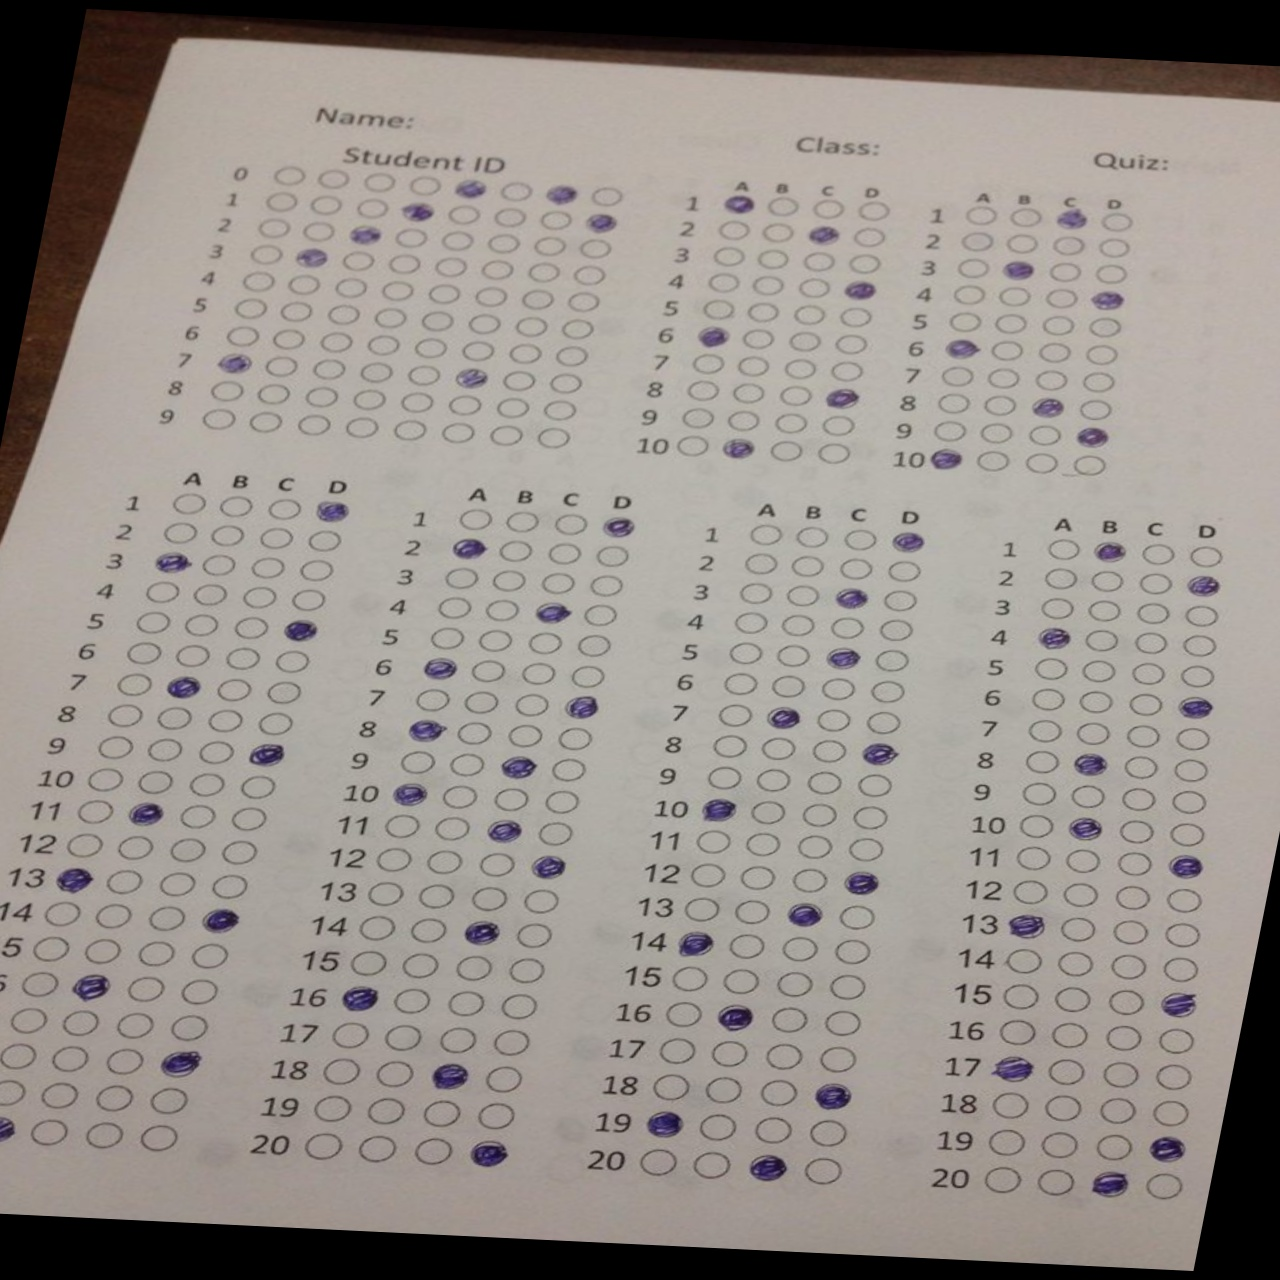not-c: (369, 1058, 423, 1091), (1037, 1090, 1089, 1124), (83, 1118, 131, 1155), (349, 1133, 401, 1166), (822, 972, 871, 1006), (713, 966, 765, 998), (1042, 1020, 1095, 1051), (799, 1155, 850, 1187), (493, 992, 547, 1022), (763, 1007, 815, 1039), (488, 1027, 537, 1060), (980, 1126, 1033, 1157), (479, 1063, 530, 1095), (990, 1017, 1041, 1049), (1030, 1166, 1081, 1198), (416, 1098, 463, 1132), (821, 1010, 872, 1041), (223, 803, 272, 835), (216, 837, 265, 869), (139, 904, 189, 935), (785, 864, 835, 896), (39, 1080, 84, 1114), (474, 1101, 520, 1133), (1145, 1061, 1196, 1091), (1141, 1170, 1189, 1201), (297, 1131, 348, 1160), (982, 1091, 1034, 1121), (163, 835, 212, 865), (165, 1010, 211, 1043), (408, 1137, 457, 1167), (1041, 1058, 1090, 1089), (1150, 1097, 1199, 1128), (702, 1075, 749, 1107), (1005, 878, 1057, 906), (1151, 1024, 1198, 1056), (506, 692, 557, 721), (661, 966, 712, 995), (649, 1035, 700, 1064), (659, 1000, 707, 1030), (138, 1122, 183, 1155), (144, 1085, 196, 1114), (645, 1071, 696, 1099), (434, 1023, 479, 1055), (706, 1039, 751, 1070), (1049, 948, 1095, 980), (979, 1164, 1024, 1196), (183, 770, 232, 799), (1157, 954, 1206, 983), (90, 1083, 137, 1114), (26, 1117, 73, 1148), (389, 985, 436, 1015), (124, 610, 175, 638), (115, 1010, 159, 1042), (796, 801, 840, 832), (45, 1046, 93, 1075), (437, 782, 485, 811), (1169, 723, 1217, 753), (1107, 953, 1155, 982), (996, 982, 1044, 1012), (1094, 1097, 1142, 1126), (879, 557, 925, 587), (845, 803, 891, 833), (1187, 542, 1233, 572), (1017, 811, 1063, 842), (1035, 1130, 1081, 1160), (516, 888, 565, 917), (343, 949, 390, 979), (1114, 753, 1160, 782), (1107, 849, 1157, 876), (741, 828, 785, 858), (830, 938, 874, 968), (692, 1149, 736, 1179), (285, 588, 333, 617), (463, 656, 511, 685), (324, 1020, 372, 1048), (316, 1057, 365, 1085), (1124, 658, 1172, 686), (207, 870, 248, 903), (518, 658, 564, 687), (443, 990, 489, 1020), (1175, 632, 1220, 661), (1105, 988, 1148, 1020), (509, 922, 558, 949), (89, 903, 132, 933), (7, 1005, 50, 1035), (1092, 1132, 1136, 1163), (236, 772, 282, 801), (26, 937, 73, 965), (413, 883, 459, 911), (791, 835, 838, 863), (634, 1148, 681, 1176), (152, 869, 197, 898), (59, 1009, 103, 1039), (692, 826, 736, 856), (738, 864, 783, 893), (1058, 847, 1103, 877), (175, 978, 225, 1003), (554, 723, 595, 755), (696, 764, 749, 789), (1099, 1060, 1141, 1091), (683, 349, 731, 376), (193, 738, 241, 765), (14, 971, 62, 998), (842, 837, 890, 864), (695, 1114, 743, 1141), (1073, 628, 1121, 655), (1015, 779, 1063, 806), (114, 832, 159, 860), (43, 897, 86, 927), (188, 940, 230, 971), (542, 788, 584, 818), (406, 915, 451, 944), (727, 608, 772, 636), (716, 672, 762, 700), (1075, 658, 1121, 686), (1065, 779, 1111, 808), (1163, 886, 1208, 914), (1159, 920, 1205, 948), (437, 417, 481, 447), (365, 1095, 408, 1124), (1133, 568, 1177, 598), (406, 686, 455, 712), (1167, 821, 1214, 847), (227, 615, 272, 644), (565, 663, 610, 692), (476, 852, 520, 880), (366, 878, 410, 906), (400, 951, 444, 979), (503, 956, 547, 985), (835, 556, 879, 584), (813, 704, 858, 733), (862, 708, 906, 736), (687, 860, 731, 888), (817, 1046, 862, 1074), (806, 1121, 851, 1149), (1041, 535, 1085, 563), (1110, 920, 1155, 948), (1050, 986, 1095, 1014), (838, 901, 879, 932), (532, 822, 580, 847), (727, 898, 775, 924), (124, 974, 166, 1003), (424, 850, 467, 879), (1084, 595, 1126, 625), (1167, 757, 1210, 787), (1101, 1022, 1143, 1051), (121, 639, 166, 666), (263, 678, 308, 704), (467, 886, 512, 913), (791, 524, 837, 551), (853, 772, 899, 799), (103, 1047, 147, 1075), (488, 566, 531, 594), (489, 785, 532, 813), (818, 673, 862, 701), (760, 1078, 803, 1107), (751, 1118, 795, 1146), (1123, 720, 1166, 748), (1116, 819, 1159, 847), (1058, 914, 1102, 942), (776, 354, 823, 380), (83, 938, 124, 967), (792, 275, 837, 302), (294, 557, 339, 584), (803, 771, 847, 798), (747, 798, 791, 825), (1020, 719, 1064, 745), (1009, 845, 1054, 872), (397, 747, 440, 775), (779, 935, 822, 964), (1136, 540, 1178, 568), (1003, 949, 1046, 978), (678, 379, 726, 403), (139, 738, 188, 763), (70, 798, 118, 823), (1071, 692, 1119, 716), (1108, 886, 1158, 910), (972, 448, 1017, 474), (271, 649, 316, 675), (111, 672, 157, 697), (149, 704, 195, 730), (173, 803, 219, 829), (539, 542, 585, 567), (590, 544, 635, 570), (450, 719, 496, 744), (741, 551, 787, 577), (760, 1043, 805, 1069), (1026, 687, 1071, 713), (1115, 787, 1160, 812), (190, 583, 233, 610), (102, 869, 145, 896), (479, 597, 523, 624), (578, 602, 621, 629), (431, 815, 475, 842), (314, 1095, 358, 1122), (455, 953, 495, 982), (501, 340, 547, 365), (215, 491, 256, 519), (381, 1023, 422, 1051), (728, 932, 769, 960), (774, 972, 815, 1000), (442, 566, 486, 592), (372, 846, 416, 872), (709, 702, 754, 728), (1035, 595, 1080, 621), (535, 207, 577, 234), (539, 397, 581, 424), (831, 331, 873, 358), (254, 710, 297, 737), (62, 833, 104, 860), (524, 629, 566, 656), (447, 753, 489, 779), (1087, 568, 1129, 595), (1176, 663, 1218, 690), (1166, 788, 1208, 815), (1061, 881, 1099, 911), (302, 530, 348, 554), (134, 941, 179, 966), (457, 689, 503, 714), (379, 813, 424, 838), (757, 737, 803, 762), (427, 622, 467, 651), (314, 328, 358, 354), (355, 359, 399, 384), (443, 393, 486, 418), (483, 423, 526, 449), (355, 914, 399, 940), (782, 583, 825, 608), (207, 377, 248, 404), (198, 553, 239, 580), (212, 678, 253, 704), (137, 580, 184, 604), (775, 640, 812, 669), (156, 520, 200, 545), (583, 573, 627, 598), (433, 594, 477, 619), (770, 410, 812, 436), (744, 522, 787, 547), (777, 610, 816, 638), (840, 529, 883, 554), (683, 896, 726, 921), (430, 254, 470, 281), (477, 256, 517, 282), (733, 352, 772, 379), (209, 520, 248, 547), (223, 645, 263, 672), (770, 670, 810, 697), (754, 768, 794, 795), (1020, 751, 1065, 775), (585, 185, 628, 210), (260, 354, 304, 379), (347, 388, 390, 413), (530, 427, 573, 451), (835, 304, 878, 328), (824, 360, 867, 384), (949, 256, 993, 280), (103, 703, 147, 728), (504, 722, 547, 747), (879, 587, 922, 612), (1182, 606, 1225, 631), (549, 343, 590, 369), (1073, 721, 1114, 747), (783, 328, 828, 352), (93, 736, 137, 760), (733, 584, 779, 606), (721, 641, 765, 665), (825, 615, 870, 639), (240, 584, 279, 611), (785, 554, 824, 581), (516, 287, 558, 312), (458, 339, 501, 363), (714, 218, 756, 243), (819, 413, 862, 437), (960, 203, 1002, 227), (260, 497, 302, 522), (256, 525, 298, 550), (492, 537, 535, 561), (539, 571, 581, 595), (137, 769, 177, 795), (572, 633, 612, 659), (811, 737, 851, 763), (697, 297, 741, 320), (955, 230, 999, 253), (1040, 286, 1083, 309), (418, 307, 456, 334), (675, 406, 713, 433), (737, 326, 778, 350), (1033, 368, 1074, 393), (1080, 370, 1121, 395), (86, 767, 127, 791), (458, 508, 499, 532), (869, 681, 910, 706), (474, 285, 512, 311), (993, 311, 1032, 336), (183, 613, 222, 639), (550, 757, 588, 783), (877, 618, 915, 644), (871, 649, 910, 675), (709, 734, 748, 760), (199, 407, 241, 430), (672, 435, 714, 458), (1083, 316, 1125, 340), (938, 365, 980, 388), (1074, 399, 1116, 422), (551, 512, 593, 536), (324, 301, 363, 326), (363, 332, 403, 356), (403, 365, 443, 389), (292, 413, 332, 437), (798, 248, 838, 273), (792, 304, 832, 328), (1039, 313, 1078, 338), (981, 392, 1021, 416), (173, 644, 211, 669), (206, 706, 244, 731), (772, 384, 816, 407), (722, 410, 763, 434), (995, 285, 1036, 308), (166, 491, 207, 515), (1132, 602, 1173, 626), (1124, 692, 1165, 715), (392, 418, 430, 443), (767, 440, 805, 464), (1095, 236, 1133, 260), (1047, 259, 1085, 284), (248, 554, 287, 579), (476, 629, 515, 654), (1132, 629, 1167, 656), (219, 326, 264, 347), (986, 339, 1028, 361), (975, 422, 1017, 444), (1020, 452, 1062, 475), (340, 246, 376, 272), (404, 172, 444, 196), (464, 313, 504, 336), (753, 246, 792, 270), (1034, 342, 1074, 366), (502, 510, 542, 533), (511, 314, 549, 339), (561, 316, 599, 341), (370, 306, 411, 328), (309, 358, 350, 380), (425, 282, 464, 306), (304, 384, 342, 408), (248, 407, 284, 433), (1005, 232, 1043, 256), (1024, 425, 1063, 449), (1070, 452, 1107, 477), (570, 264, 612, 285), (1091, 263, 1133, 284), (567, 290, 605, 313), (279, 298, 313, 324), (522, 261, 563, 282), (229, 297, 270, 318), (251, 384, 292, 406), (399, 392, 440, 413), (342, 415, 377, 440), (764, 195, 799, 219), (747, 275, 788, 297), (985, 366, 1026, 387), (930, 421, 971, 442), (445, 204, 484, 226), (386, 252, 424, 274), (935, 392, 974, 414), (492, 206, 529, 230), (811, 197, 847, 220), (811, 442, 853, 462), (486, 232, 524, 254), (731, 382, 769, 404), (1053, 233, 1090, 256), (268, 331, 309, 350), (1005, 209, 1046, 229), (498, 181, 537, 202), (531, 234, 570, 256), (852, 200, 891, 222), (356, 196, 393, 218), (329, 275, 366, 298), (411, 336, 448, 359), (547, 373, 584, 395), (495, 396, 531, 418), (1085, 342, 1122, 365), (1032, 659, 1068, 681), (379, 278, 414, 300), (1043, 568, 1078, 591), (247, 244, 286, 264), (285, 274, 324, 294), (945, 311, 983, 331), (580, 234, 613, 258), (761, 222, 797, 243), (850, 227, 886, 248), (745, 302, 782, 324), (257, 218, 291, 240), (361, 171, 396, 192), (503, 370, 538, 392), (847, 253, 883, 274), (704, 270, 740, 291), (1099, 215, 1138, 233), (308, 195, 345, 215), (437, 231, 474, 251), (949, 285, 986, 305), (302, 220, 336, 241), (709, 248, 744, 268), (316, 168, 350, 188), (395, 229, 429, 248), (273, 165, 305, 186), (265, 190, 298, 210), (243, 272, 279, 290)
taken-c: (1160, 847, 1216, 884), (1150, 986, 1208, 1020), (120, 795, 176, 830), (986, 1054, 1043, 1088), (740, 1149, 791, 1185), (152, 1048, 209, 1081), (835, 869, 896, 898), (641, 1107, 692, 1141), (425, 1057, 474, 1092), (712, 1001, 760, 1036), (457, 915, 508, 948), (1002, 912, 1056, 942), (672, 927, 720, 961), (855, 738, 904, 770), (812, 1081, 858, 1115), (46, 865, 98, 894), (1030, 622, 1080, 653), (68, 973, 118, 1002), (331, 983, 381, 1013), (497, 753, 545, 783), (525, 855, 574, 884), (696, 794, 745, 823), (529, 599, 576, 629), (1087, 1167, 1133, 1198), (384, 779, 433, 809), (593, 515, 645, 542), (481, 818, 527, 847), (886, 525, 933, 554), (1145, 1131, 1192, 1160), (159, 675, 210, 702), (1184, 570, 1228, 600), (467, 1139, 515, 1167), (781, 898, 828, 926), (559, 694, 604, 723), (243, 742, 293, 768), (198, 906, 244, 934), (1092, 535, 1135, 565), (925, 445, 971, 474), (403, 716, 447, 745), (821, 644, 867, 670), (147, 549, 195, 574), (830, 586, 878, 612), (278, 617, 324, 644), (1172, 694, 1218, 721), (763, 703, 806, 731), (1065, 816, 1109, 844), (445, 536, 492, 561), (418, 654, 463, 681), (819, 384, 867, 409), (940, 334, 986, 360), (693, 324, 736, 350), (1088, 286, 1131, 313), (1030, 393, 1071, 421), (1071, 753, 1116, 778), (717, 192, 762, 217), (311, 498, 356, 522), (798, 222, 844, 245), (345, 222, 388, 246), (1055, 207, 1095, 233), (452, 178, 493, 203), (838, 277, 880, 300), (717, 438, 758, 462), (999, 259, 1040, 282), (544, 181, 579, 207), (291, 247, 333, 268), (216, 350, 256, 373), (396, 202, 440, 222), (579, 210, 618, 232), (1073, 427, 1110, 449), (454, 367, 491, 388)
